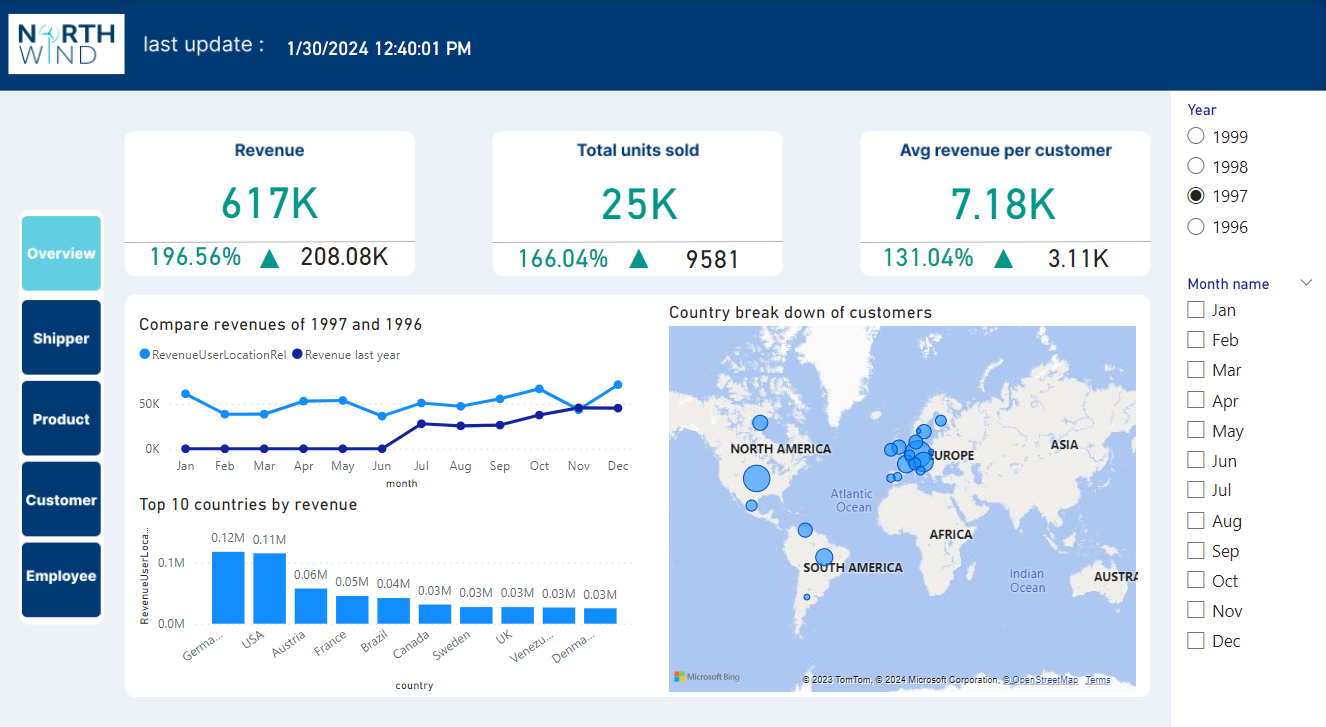

The dashboard page shown, as its layout file describes it:
{"tool":"powerbi","page":{"name":"Main","canvas":[1280,720],"ordinal":0},"visuals":[{"type":"lineChart","fields":{"Category":["dimDate.monthNameShort"],"Y":["#Measures.Revenue","#Measures.RevenueLastYear"]},"box":[129.1,302.1,487.6,174.4],"z":0},{"type":"card","fields":{"Values":["#Measures.RevenueLastYear"]},"box":[271.8,229.1,121.4,35.7],"z":1000},{"type":"card","fields":{"Values":["#Measures.Revenue"]},"box":[126.4,163.4,266.4,53.6],"z":2000},{"type":"card","fields":{"Values":["#Measures.YOY %"]},"box":[126.1,229.1,122.9,34.3],"z":3000},{"type":"card","fields":{"Values":["#Measures.TotalUnitsSoldLastYear"]},"box":[627.4,231.1,121.4,35.7],"z":4000},{"type":"card","fields":{"Values":["#Measures.TotalUnitsSold"]},"box":[483.4,166.2,266.4,52.2],"z":5000},{"type":"card","fields":{"Values":["#Measures.TotalUnitsSoldGrowth"]},"box":[481.7,231.1,122.9,34.3],"z":6000},{"type":"card","fields":{"Values":["#Measures.AvgRevPerCustomerLastYear"]},"box":[979.2,230.7,122.2,35.7],"z":7000},{"type":"card","fields":{"Values":["#Measures.AvgRevPerCustomer"]},"box":[835,164.8,266.4,53.6],"z":8000},{"type":"card","fields":{"Values":["#Measures.AvgRevPerCustomerGrowth"]},"box":[833.6,230.7,123.6,34.3],"z":9000},{"type":"clusteredColumnChart","title":"Top 10 countries by revenue","fields":{"Category":["dimLocation.country"],"Y":["#Measures.Revenue"]},"box":[129.1,476.6,487.6,196.4],"z":10000},{"type":"slicer","fields":{"Values":["dimDate.yearKey"]},"box":[1133,93.4,147,160.7],"z":11000},{"type":"slicer","fields":{"Values":["dimDate.monthNameShort"]},"box":[1133,260.9,147,442.2],"z":12000},{"type":"card","fields":{"Values":["#Measures.AvgRevPerCustomerGrowthUnichar"]},"box":[940.8,230.7,54.9,38.5],"z":13000},{"type":"card","fields":{"Values":["#Measures.RevenueGrowthUnichar"]},"box":[232.8,230.4,54.1,37.8],"z":14000},{"type":"card","fields":{"Values":["#Measures.TotalUnitsSoldGrowthUnichar"]},"box":[588.6,230.4,55.4,37.8],"z":15000},{"type":"map","title":"Country break down of customers","fields":{"Category":["dimLocation.country"],"Size":["#Measures.Revenue"]},"box":[640,291.2,461.5,381.8],"z":16000},{"type":"shape","box":[21.7,209.8,74.8,69.9],"z":17000},{"type":"shape","box":[21.7,290.7,74.8,69.9],"z":18000},{"type":"shape","box":[21.7,367.8,74.8,69.9],"z":19000},{"type":"shape","box":[21.7,446.2,74.8,69.9],"z":20000},{"type":"shape","box":[21.7,523.4,74.8,69.9],"z":21000},{"type":"card","fields":{"Values":["#Measures.LastUpdate"]},"box":[249.6,1.2,231.6,91.7],"z":22000}]}

Visuals, with their boxes in screenshot pixels (x1, y1, x2, y2), scaled from the page's 1280x720 canvas onto the 1326x727 screenshot:
lineChart - dimDate.monthNameShort x #Measures.Revenue: bbox(134, 305, 639, 481)
card - #Measures.RevenueLastYear: bbox(282, 231, 407, 267)
card - #Measures.Revenue: bbox(131, 165, 407, 219)
card - #Measures.YOY %: bbox(131, 231, 258, 266)
card - #Measures.TotalUnitsSoldLastYear: bbox(650, 233, 776, 269)
card - #Measures.TotalUnitsSold: bbox(501, 168, 777, 221)
card - #Measures.TotalUnitsSoldGrowth: bbox(499, 233, 626, 268)
card - #Measures.AvgRevPerCustomerLastYear: bbox(1014, 233, 1141, 269)
card - #Measures.AvgRevPerCustomer: bbox(865, 166, 1141, 221)
card - #Measures.AvgRevPerCustomerGrowth: bbox(864, 233, 992, 268)
"Top 10 countries by revenue" clusteredColumnChart: bbox(134, 481, 639, 680)
slicer - dimDate.yearKey: bbox(1174, 94, 1325, 257)
slicer - dimDate.monthNameShort: bbox(1174, 263, 1325, 710)
card - #Measures.AvgRevPerCustomerGrowthUnichar: bbox(975, 233, 1031, 272)
card - #Measures.RevenueGrowthUnichar: bbox(241, 233, 297, 271)
card - #Measures.TotalUnitsSoldGrowthUnichar: bbox(610, 233, 667, 271)
"Country break down of customers" map: bbox(663, 294, 1141, 680)
shape: bbox(22, 212, 100, 282)
shape: bbox(22, 294, 100, 364)
shape: bbox(22, 371, 100, 442)
shape: bbox(22, 451, 100, 521)
shape: bbox(22, 528, 100, 599)
card - #Measures.LastUpdate: bbox(259, 1, 498, 94)
